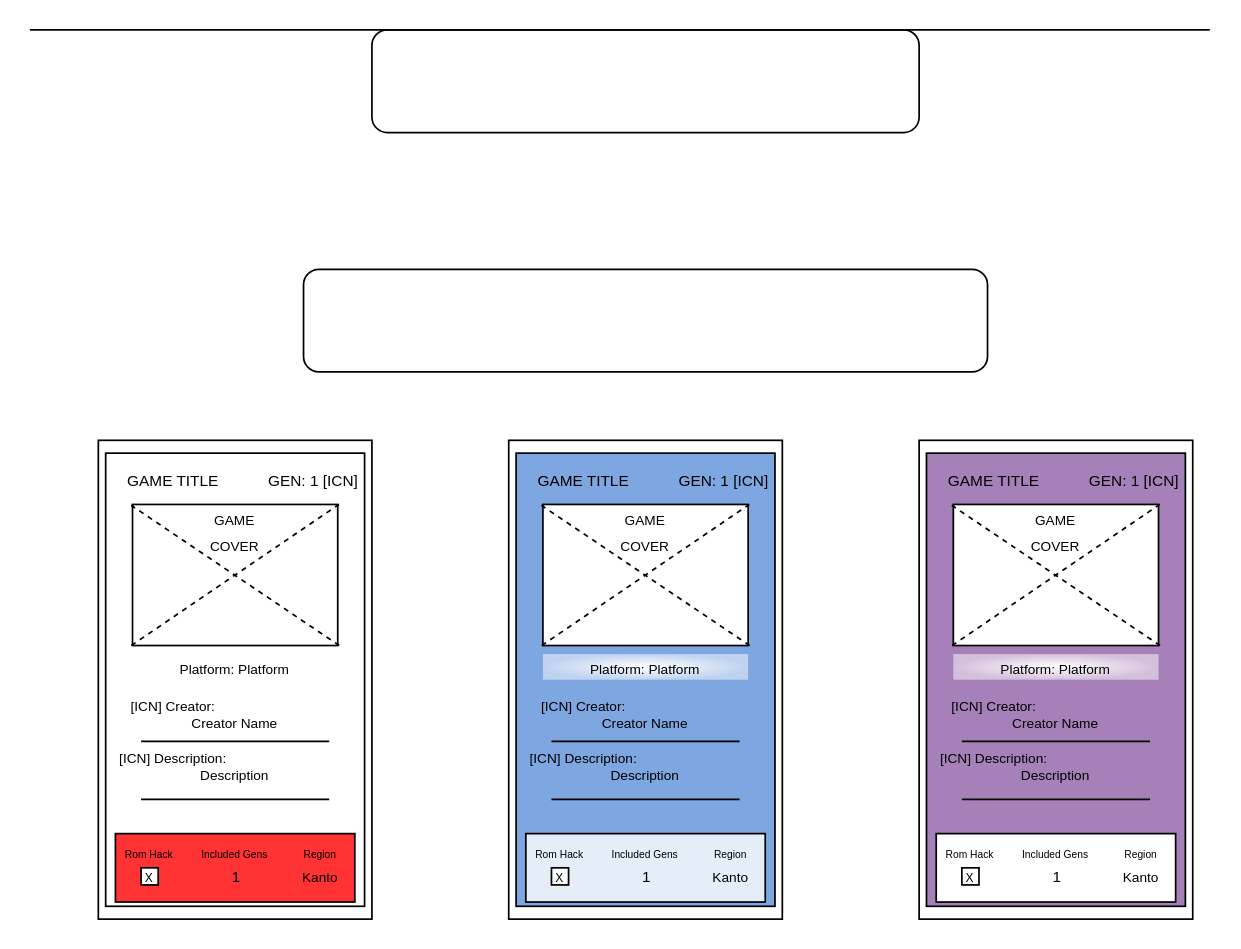
The diagram is 1241 pixels wide and 949 high, and some of its shapes have lost their labels. Each missing label, with the box of its shape:
[SEARCH]: (302, 268, 988, 372)
NUZLUCKE ||| New Game : Load Game : Settings: (370, 28, 919, 133)
